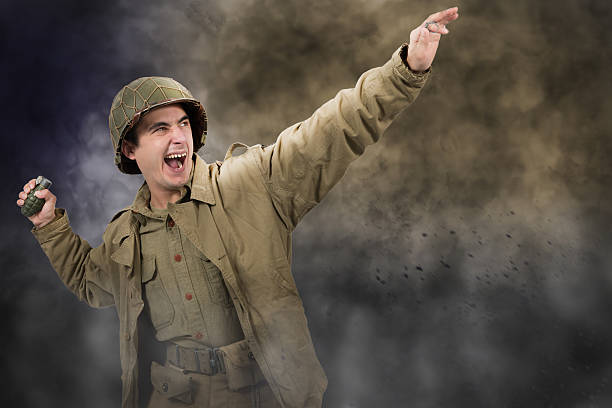e1: (18, 178, 53, 218)
